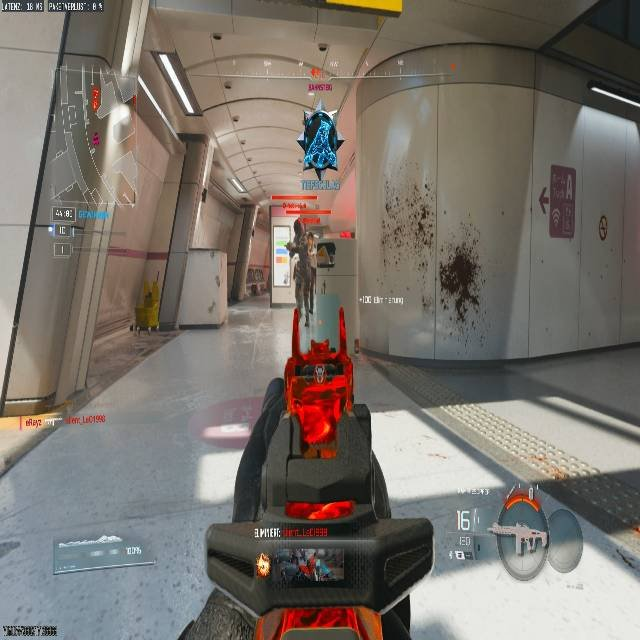head: (292, 218, 304, 237)
player: (297, 105, 342, 180), (439, 251, 480, 327), (284, 218, 321, 284)
